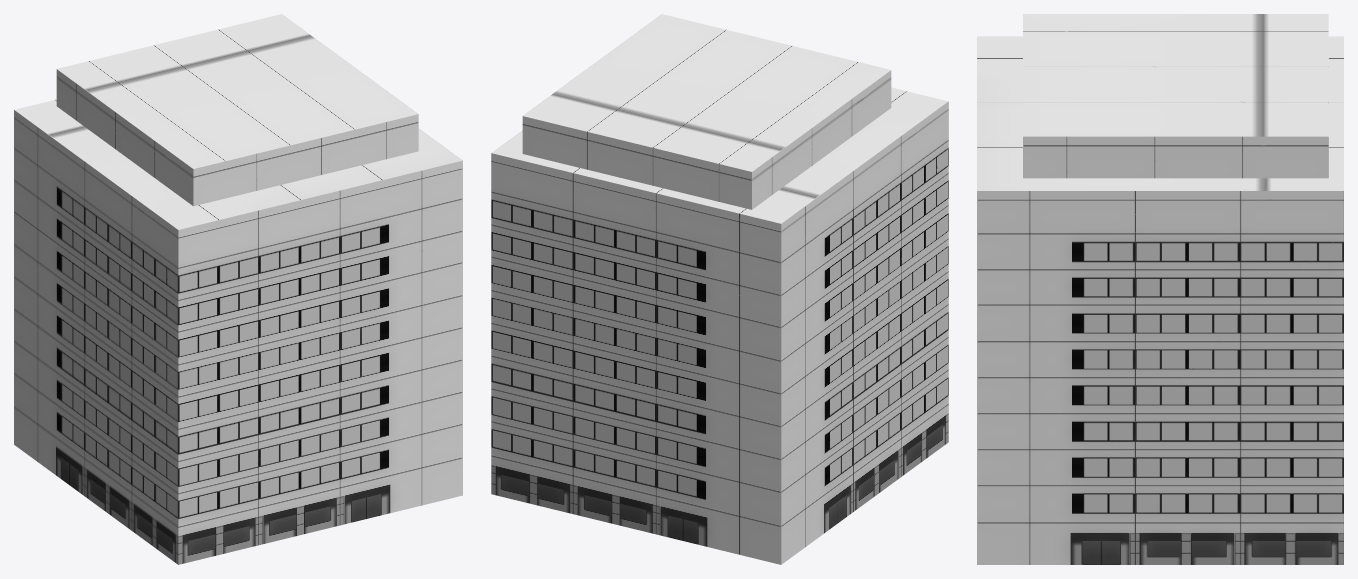
The model's file is buil_00.fbx.
3 views of the same model, side by side, from view 1: azimuth 30°, elevation 25°; view 2: azimuth 150°, elevation 25°; view 3: azimuth 270°, elevation 25° (orthographic). The views are drawn at different scales.
Visible parts, largest first — view 1: buil_00; view 2: buil_00; view 3: buil_00.
Boxes of the visible parts, x1,y1,x2,y2 form: buil_00: (14,14,462,564); buil_00: (491,14,948,564); buil_00: (977,14,1343,564).
Size of the model in its own units: 24 by 30 by 24.
